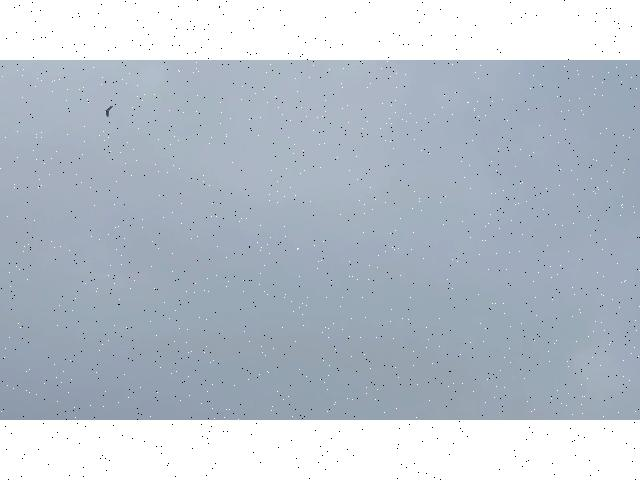Anti-Drone: (105, 105, 113, 117)
